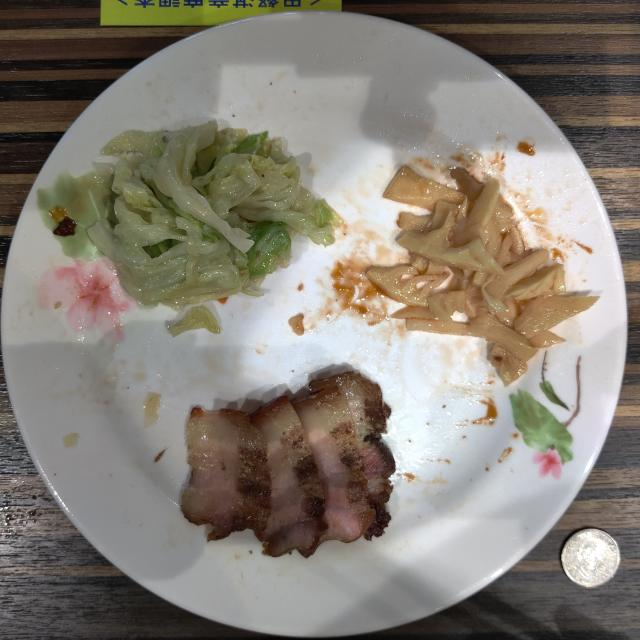cabbage: (88, 121, 340, 309)
coin: (561, 529, 620, 588)
red grilled pork: (181, 372, 395, 558)
